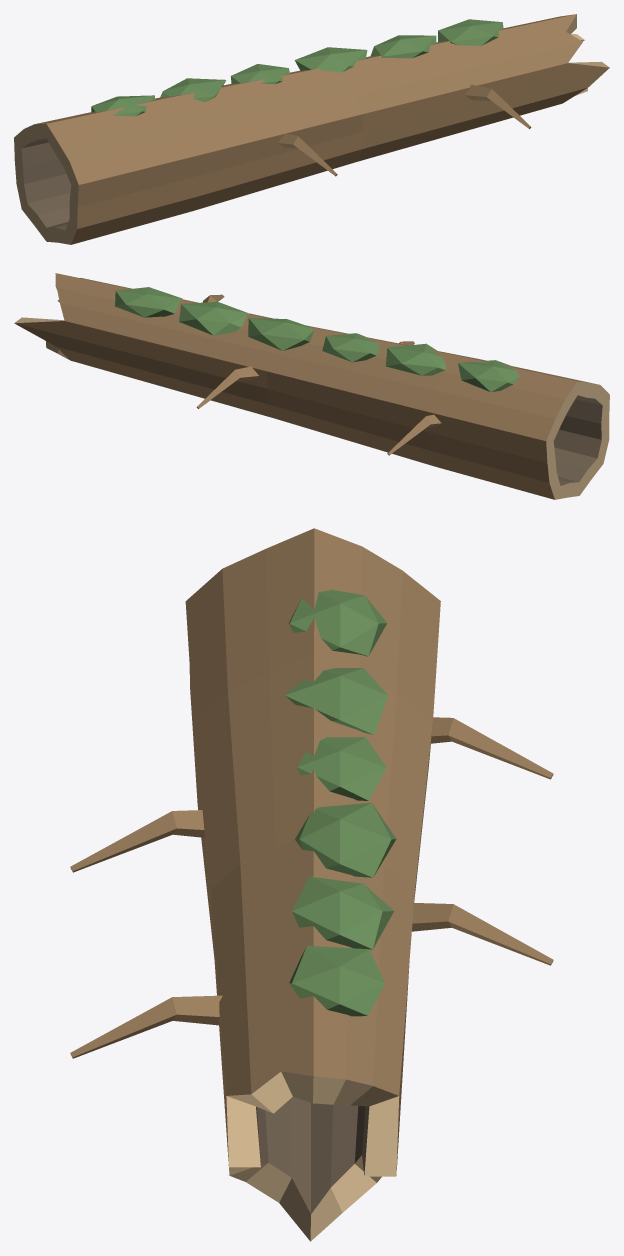
Rendered from fallen_log_03.glb.
3 renders of one model, top to bottom at view 1: azimuth 30°, elevation 25°; view 2: azimuth 150°, elevation 25°; view 3: azimuth 270°, elevation 25°, orthographic. The views are drawn at different scales.
Visible parts, largest first — view 1: Fallen_log_03; view 2: Fallen_log_03; view 3: Fallen_log_03.
Boxes of the visible parts, x1=… form: Fallen_log_03: x1=14, y1=14, x2=609, y2=244; Fallen_log_03: x1=14, y1=273, x2=609, y2=499; Fallen_log_03: x1=70, y1=528, x2=553, y2=1241.
Size of the model in its own units: 6.28 by 1.27 by 2.41.
